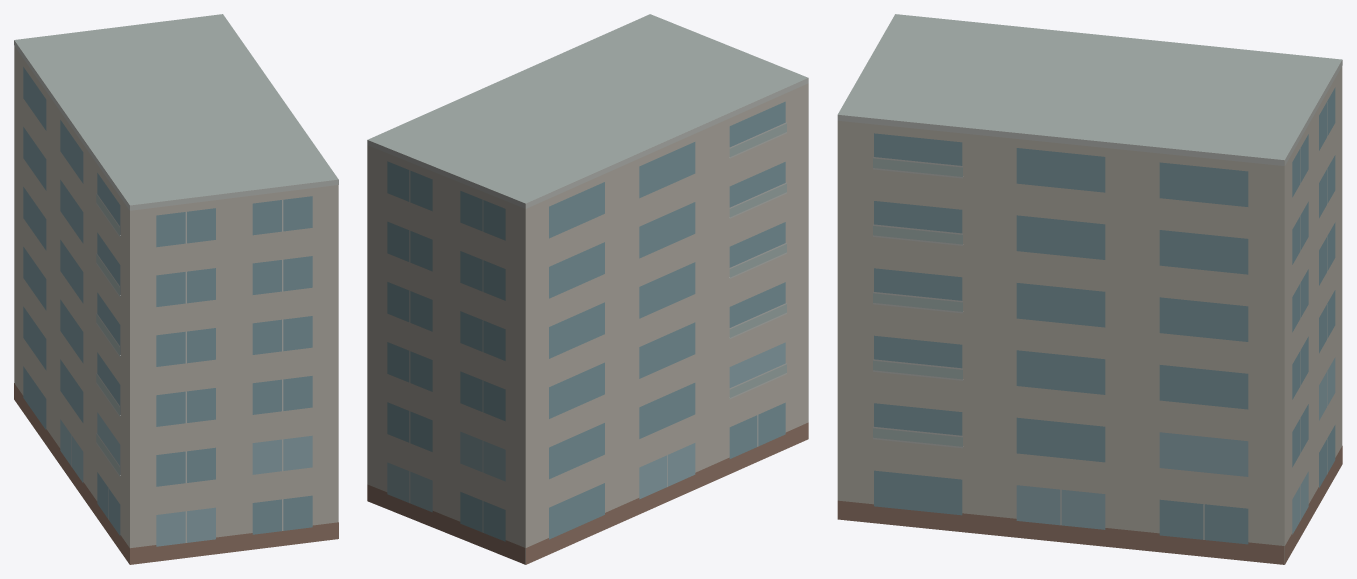
The model's file is survey-upis-33028122.glb.
3 renders of one model, left to right at view 1: azimuth 30°, elevation 25°; view 2: azimuth 150°, elevation 25°; view 3: azimuth 270°, elevation 25°, orthographic. The views are drawn at different scales.
Parts seen in each view (by area): view 1: survey-upis-33028122.tmp; view 2: survey-upis-33028122.tmp; view 3: survey-upis-33028122.tmp.
Boxes of the visible parts, x1,y1,x2,y2 form: survey-upis-33028122.tmp: (14,14,338,564); survey-upis-33028122.tmp: (367,14,808,564); survey-upis-33028122.tmp: (837,14,1342,564).
Size of the model in its own units: 12.79 by 16.5 by 18.67.
